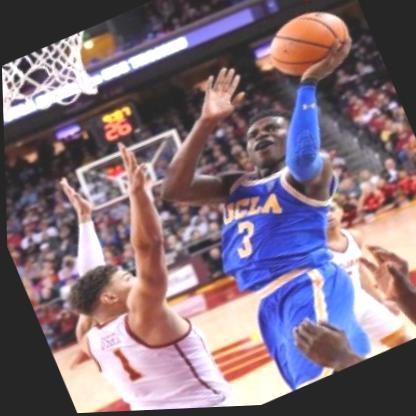basketball: (256, 0, 362, 90)
